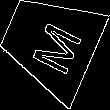M_NW: (19, 11, 80, 74)
